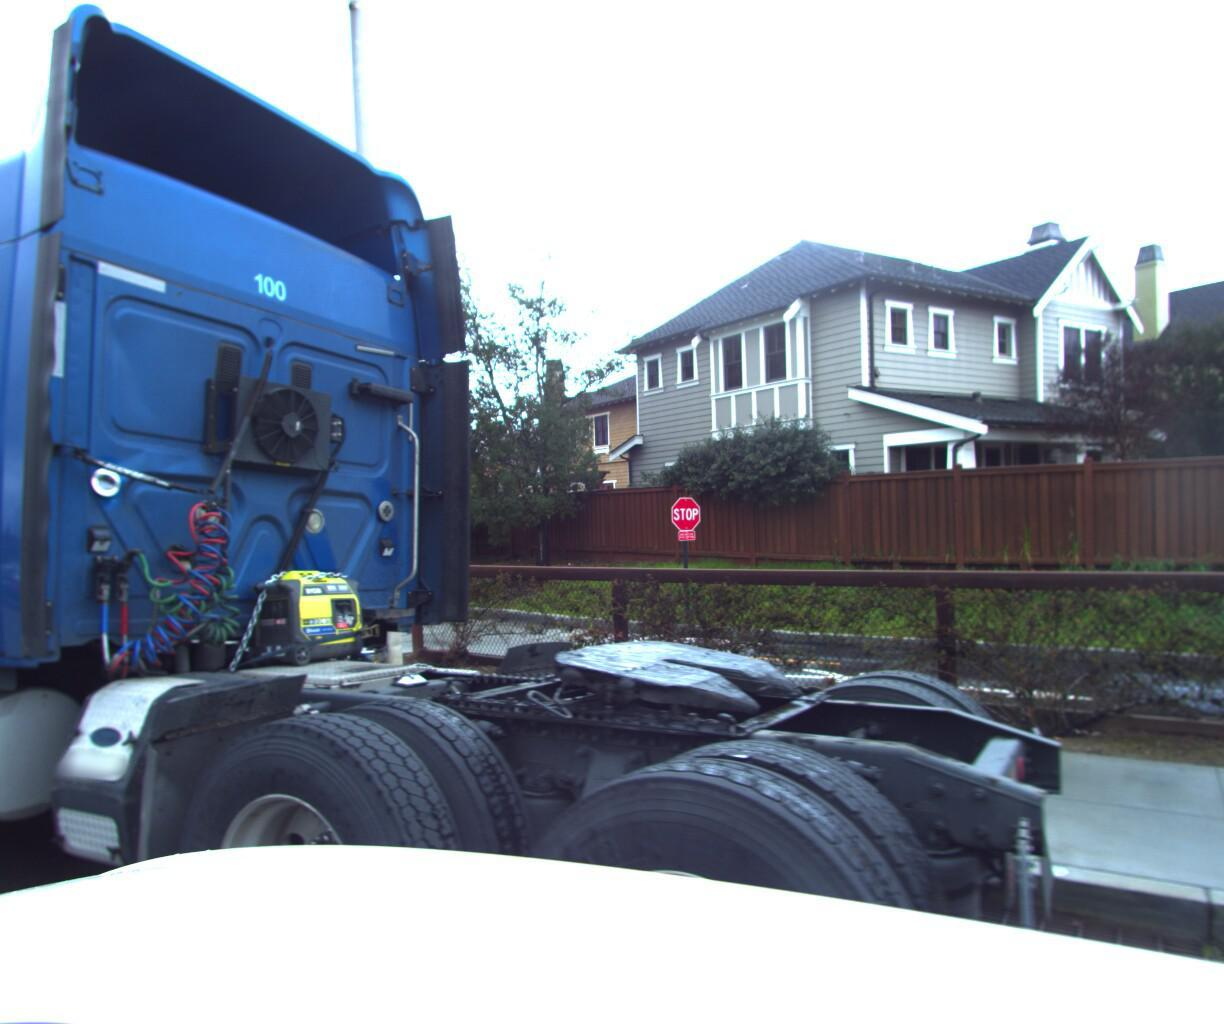truck: (0, 0, 1119, 1024)
